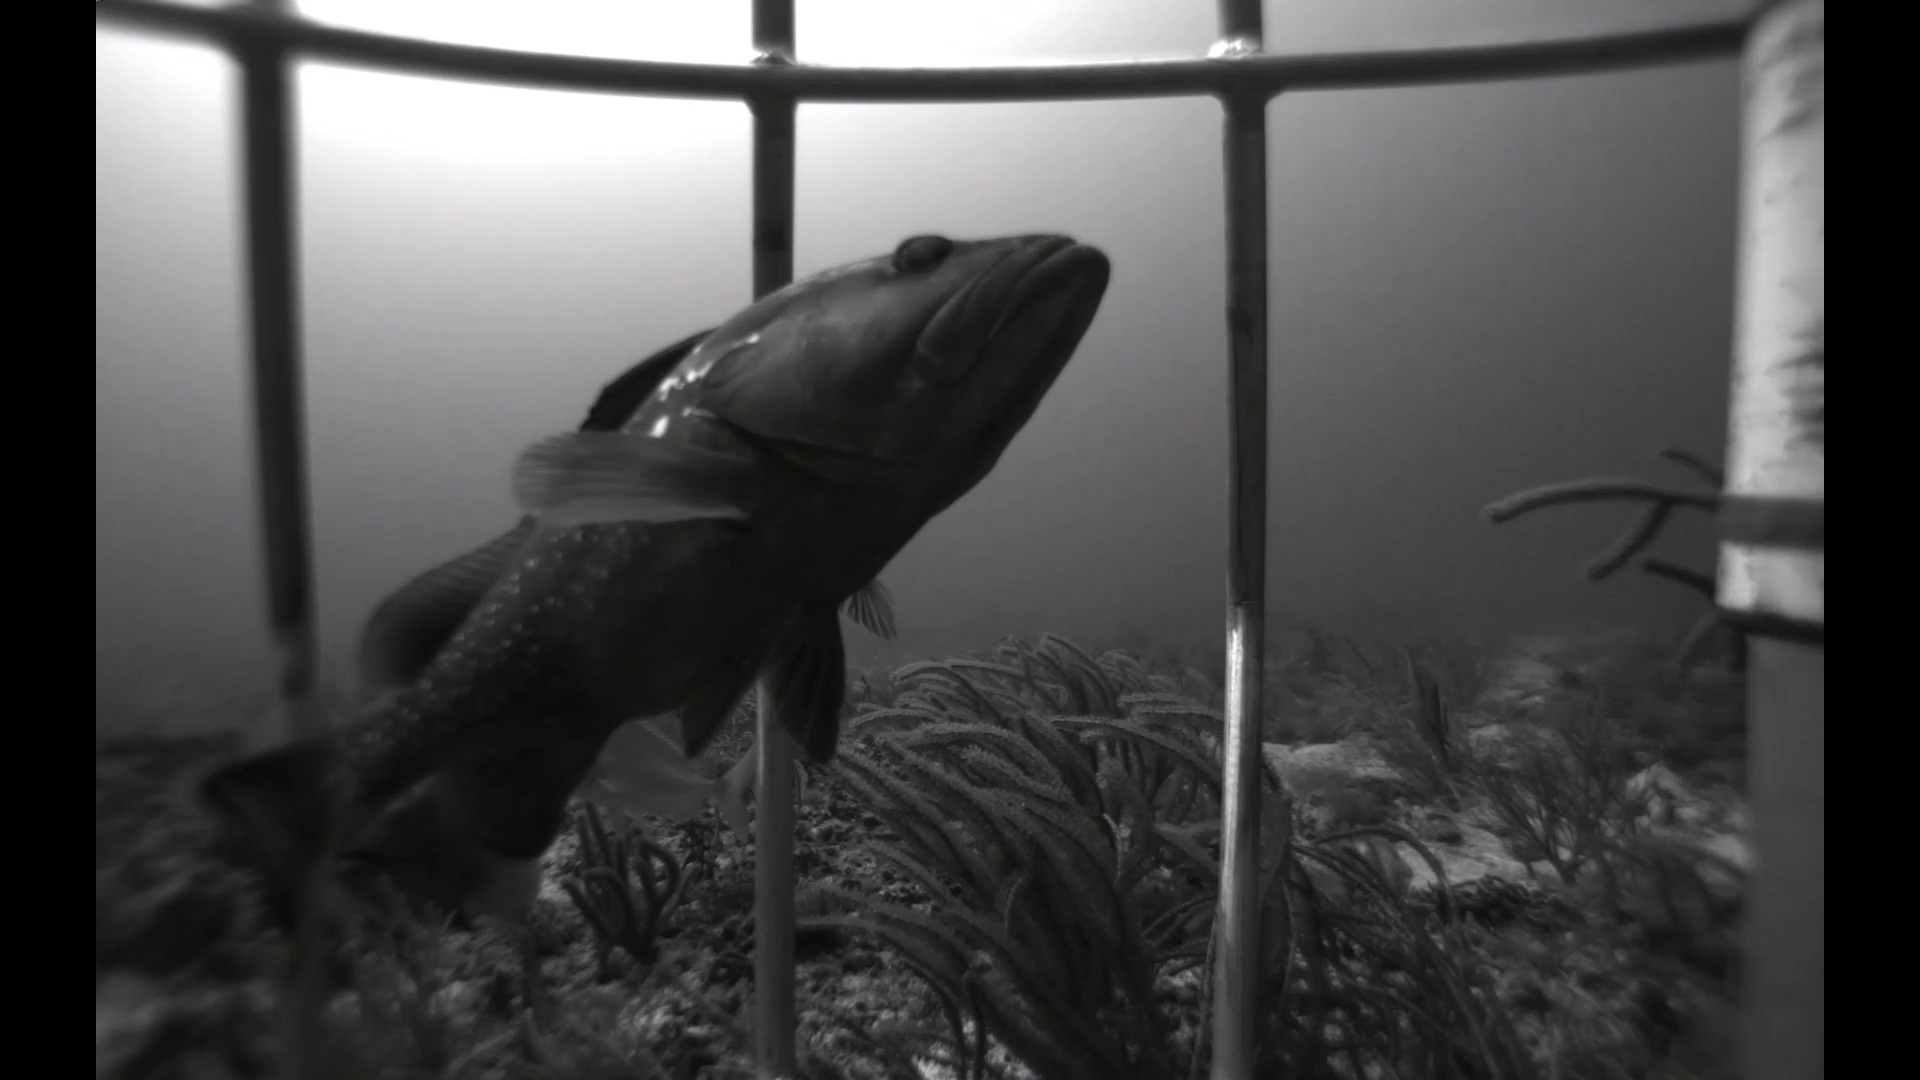CALAMUSNODOSUS-170210608: (574, 709, 754, 841)
EPINEPHELUSMORIO-170021211: (167, 200, 1125, 1000), (338, 770, 556, 934), (1648, 650, 1746, 717)
LUTJANUSGRISEUS-170151109: (340, 662, 400, 708)
POMACANTHUSARCUATUS-170290201: (1395, 651, 1491, 774)
